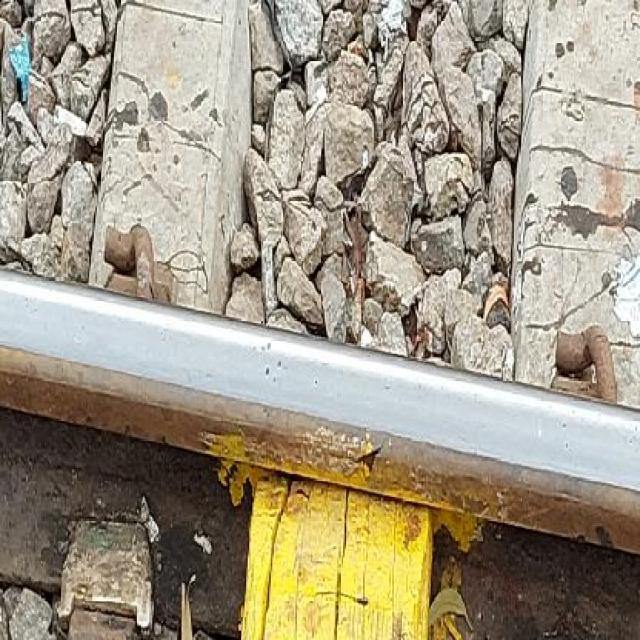defective: (1, 163, 640, 627)
